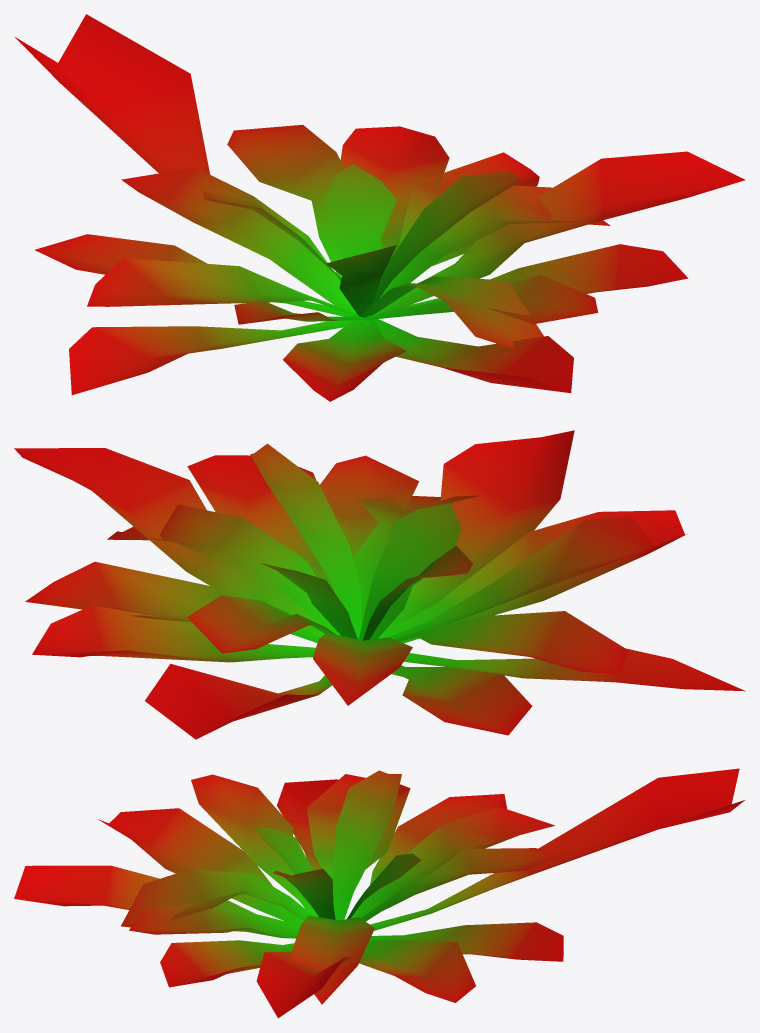
The model's file is Var28_LOD0.fbx.
3 renders of one model, top to bottom at view 1: azimuth 30°, elevation 25°; view 2: azimuth 150°, elevation 25°; view 3: azimuth 270°, elevation 25°, orthographic. The views are drawn at different scales.
Visible parts, largest first — view 1: _fn4y_Var28_LOD0; view 2: _fn4y_Var28_LOD0; view 3: _fn4y_Var28_LOD0.
Boxes of the visible parts, x1,y1,x2,y2 form: _fn4y_Var28_LOD0: (15, 14, 745, 401); _fn4y_Var28_LOD0: (14, 430, 745, 739); _fn4y_Var28_LOD0: (14, 768, 744, 1018).
Bounding box in the file's own units: 21.39 × 4.36 × 23.39.
